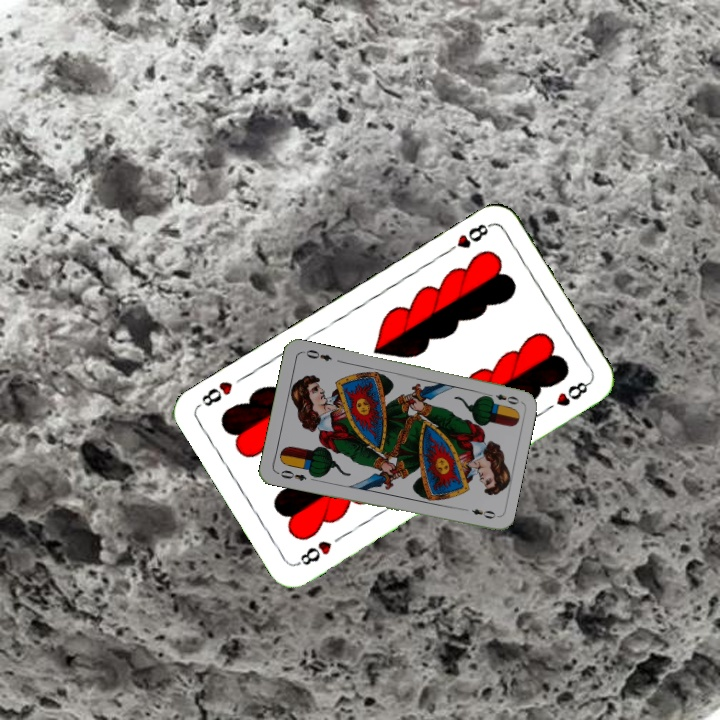EO: (482, 389, 522, 407), (273, 466, 309, 484)
H8: (441, 219, 494, 257), (293, 536, 335, 569)
